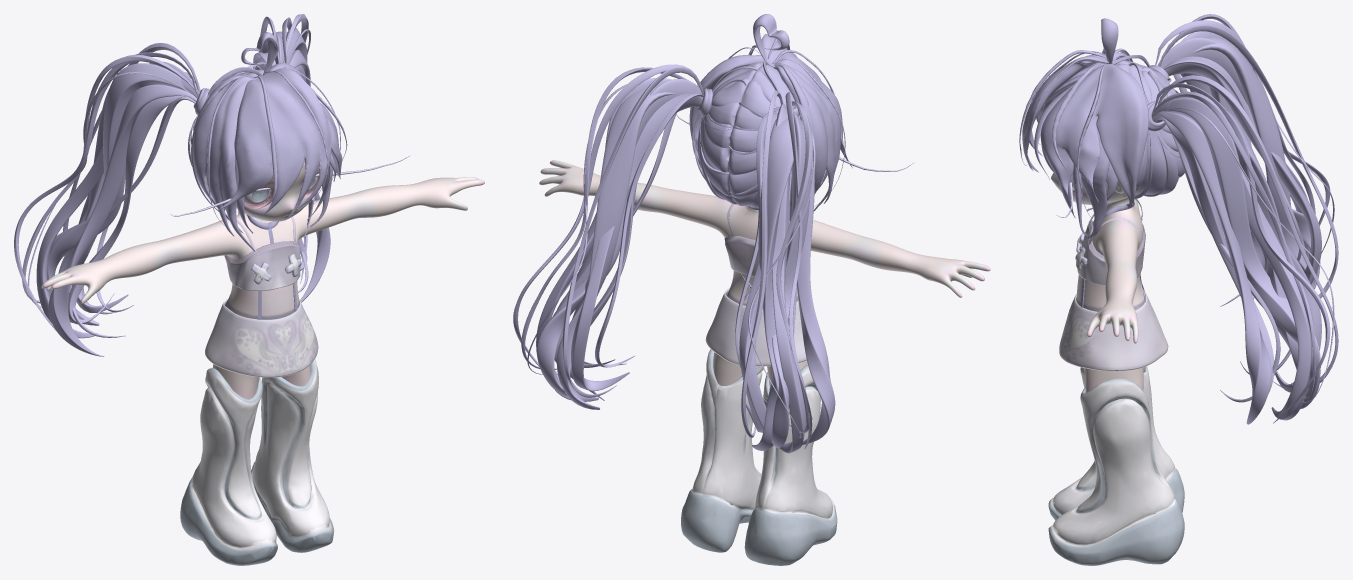
The model's file is popo.glb.
The picture shows the model from 3 angles, left to right: view 1: azimuth 30°, elevation 25°; view 2: azimuth 150°, elevation 25°; view 3: azimuth 270°, elevation 25°; orthographic projection. The views are drawn at different scales.
Parts seen in each view (by area): view 1: popo_Hair, popo_Shoes, popo_Body_low, popo_Skirt, popo_Top; view 2: popo_Hair, popo_Shoes, popo_Body_low, popo_Skirt, popo_Top; view 3: popo_Hair, popo_Shoes, popo_Body_low, popo_Skirt, popo_Top.
Part boxes in pixels (<box>): popo_Hair: <box>14,14,347,356</box>; popo_Shoes: <box>180,359,334,565</box>; popo_Body_low: <box>41,156,484,398</box>; popo_Skirt: <box>205,298,318,377</box>; popo_Top: <box>224,214,301,319</box>; popo_Hair: <box>513,14,852,453</box>; popo_Shoes: <box>681,349,837,565</box>; popo_Body_low: <box>539,114,990,387</box>; popo_Skirt: <box>705,287,806,366</box>; popo_Top: <box>724,203,762,309</box>; popo_Hair: <box>1019,14,1338,424</box>; popo_Shoes: <box>1048,366,1184,565</box>; popo_Body_low: <box>1051,85,1145,399</box>; popo_Skirt: <box>1059,292,1168,370</box>; popo_Top: <box>1075,199,1145,307</box>.
Bounding box in the file's own units: 0.9702 × 1.08 × 0.5999.
8 materials, 5 textured.
